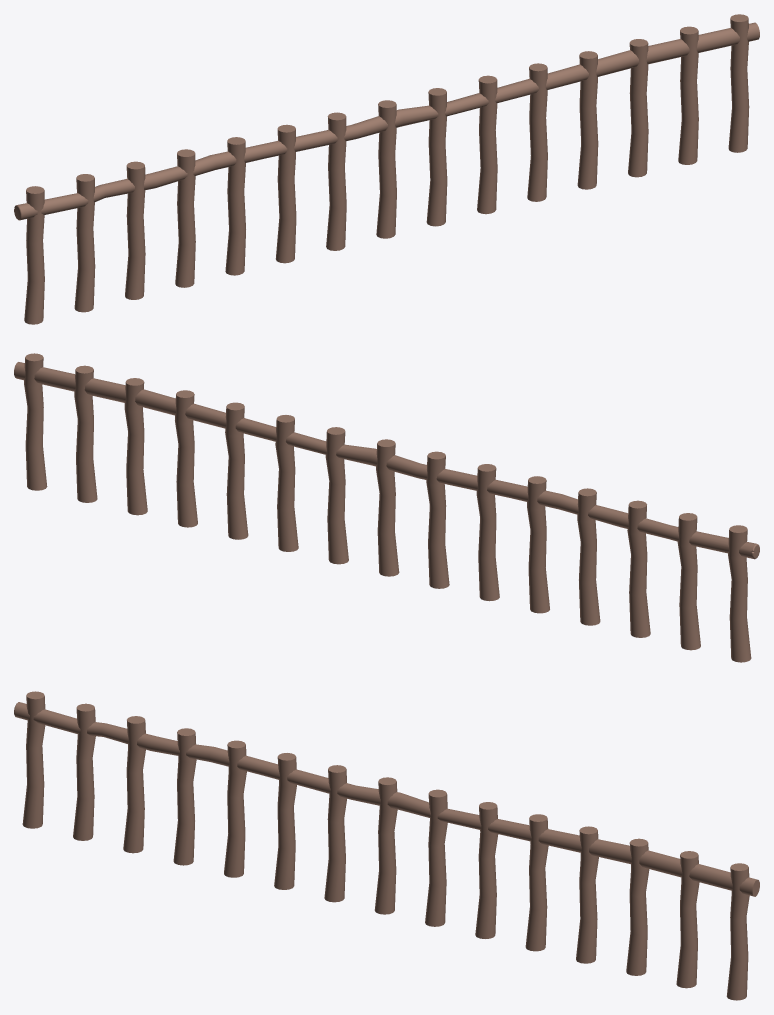
File: fence_small.fbx
3 renders of one model, top to bottom at view 1: azimuth 30°, elevation 25°; view 2: azimuth 150°, elevation 25°; view 3: azimuth 330°, elevation 25°, orthographic.
Parts seen in each view (by area): view 1: polySurface131; view 2: polySurface131; view 3: polySurface131.
Boxes of the visible parts, x1=… form: polySurface131: x1=14, y1=14, x2=759, y2=324; polySurface131: x1=14, y1=353, x2=759, y2=662; polySurface131: x1=14, y1=691, x2=759, y2=1000.
Bounding box in the file's own units: 621 × 104 × 14.74.
